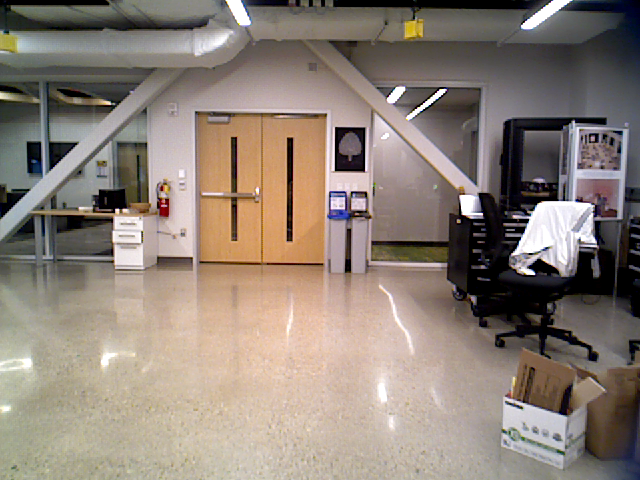painting1: (330, 124, 370, 175)
